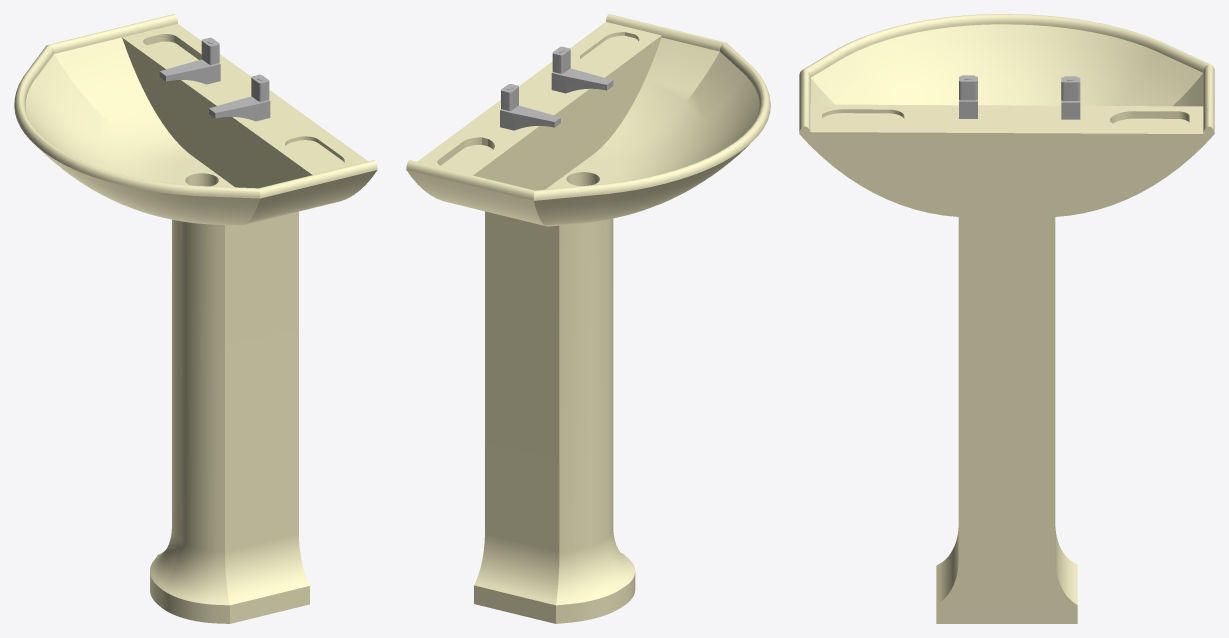
3 views of the same model, side by side, from view 1: azimuth 30°, elevation 25°; view 2: azimuth 150°, elevation 25°; view 3: azimuth 270°, elevation 25° (orthographic).
Parts seen in each view (by area): view 1: group_0 (×5); view 2: group_0 (×5); view 3: group_0 (×3).
Part boxes in pixels (box(x1,y1,x2,y2)): group_0 (×5): box(14, 14, 377, 623); group_0 (×5): box(406, 14, 770, 623); group_0 (×3): box(799, 14, 1214, 623).
Size of the model in its own units: 15.01 by 23 by 32.3.
